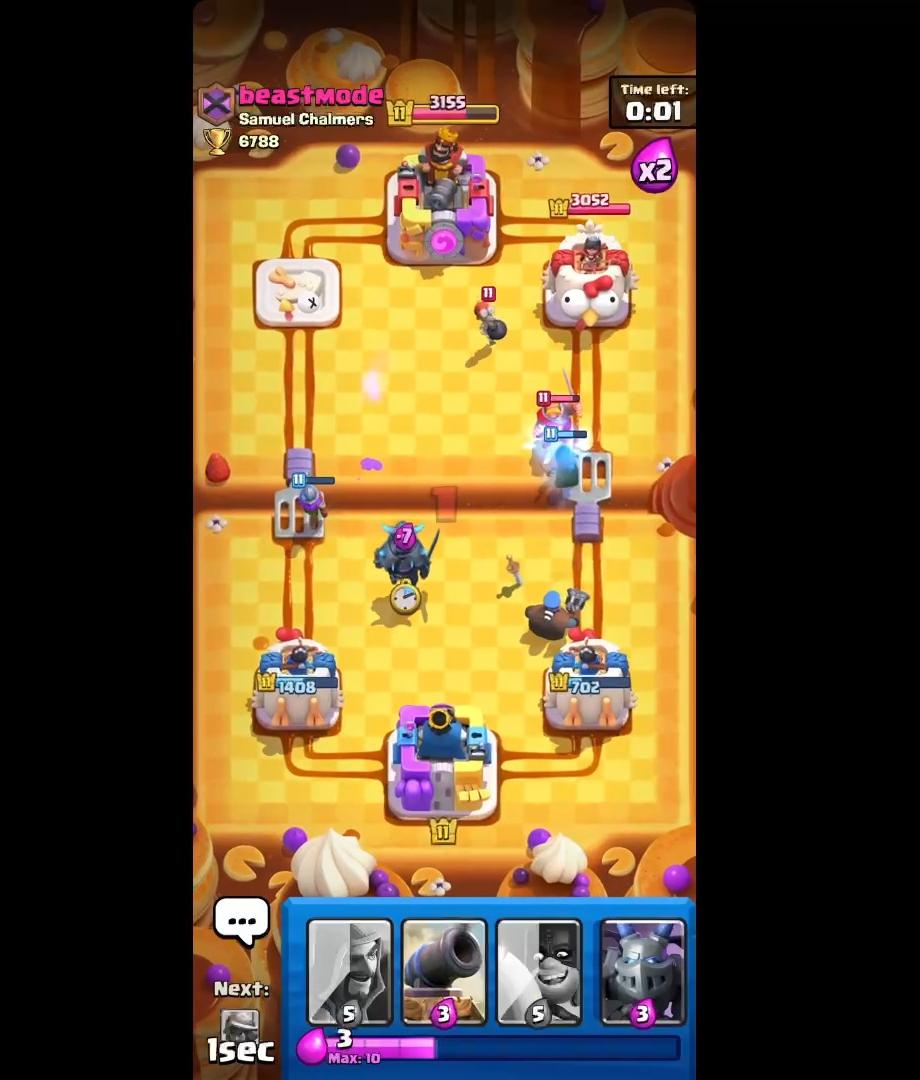Bomber: (460, 282, 512, 351)
Knight: (527, 381, 583, 438)
